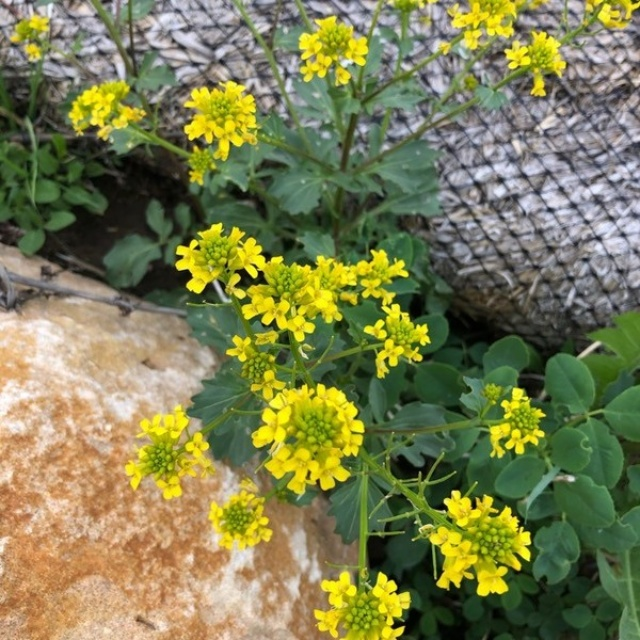obstacle: (80, 60, 561, 603)
